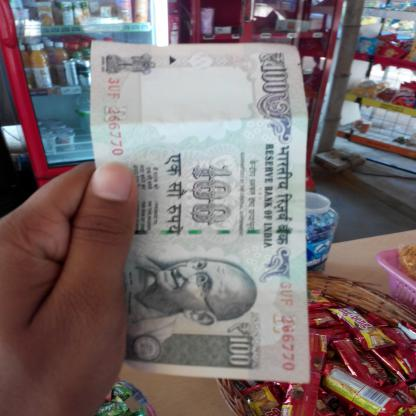Old100Front: (89, 42, 310, 384)
